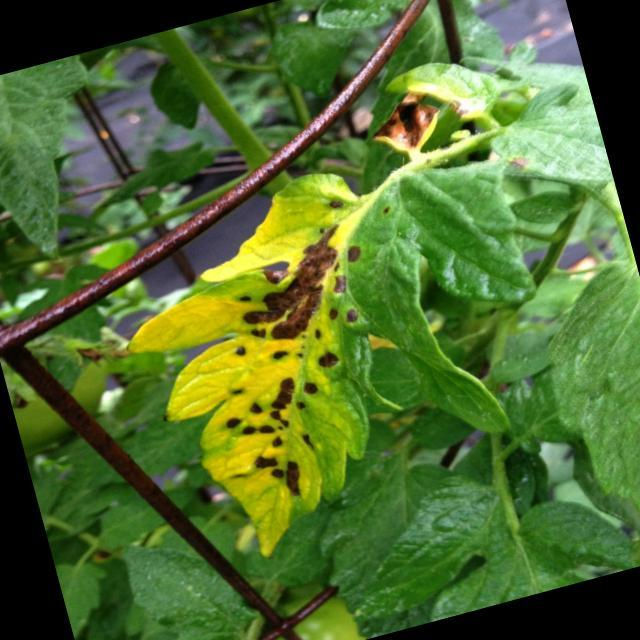Tomato bacterial spot leaf: (102, 122, 601, 580)
